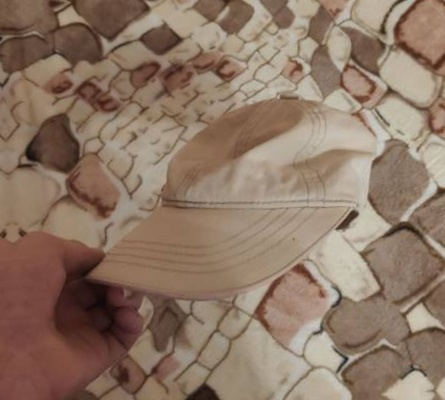Hat: (75, 39, 411, 342)
